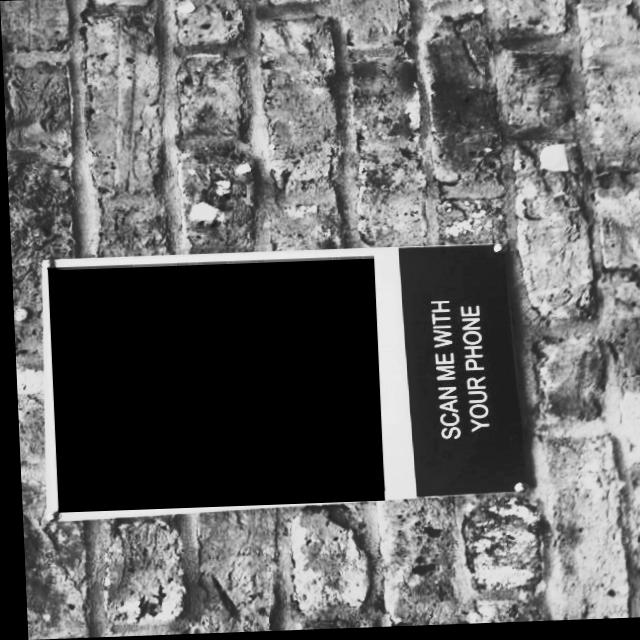qr_code: (45, 258, 380, 511)
